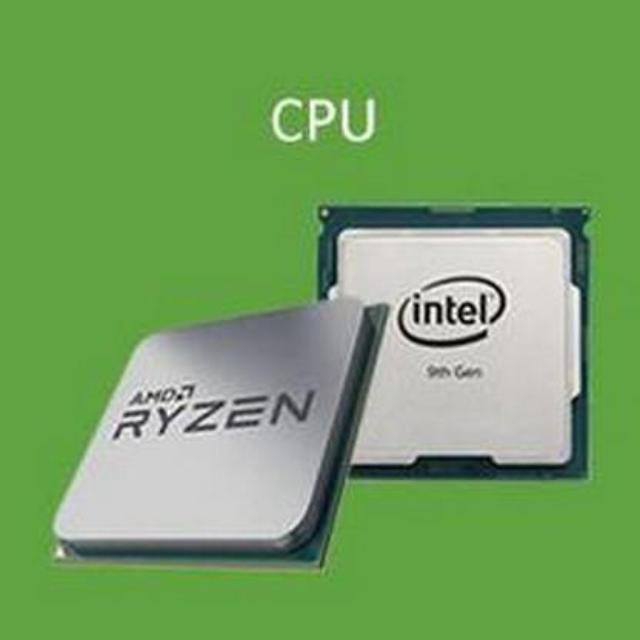CPU: (310, 181, 588, 479), (58, 292, 342, 563)
